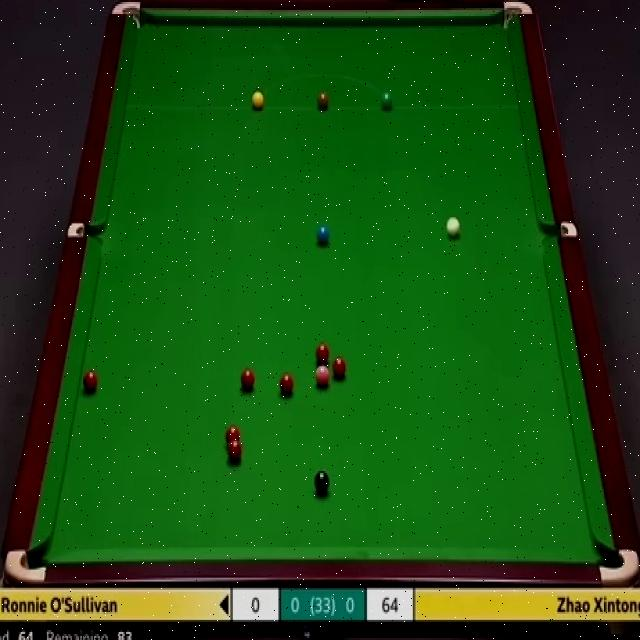black-ball: (314, 470, 329, 494)
blue-ball: (316, 226, 330, 244)
brown-ball: (317, 92, 328, 110)
green-ball: (380, 89, 394, 111)
pink-ball: (316, 366, 331, 387)
red-ball: (240, 369, 257, 390), (278, 374, 294, 396), (83, 369, 98, 392), (331, 357, 346, 378), (315, 343, 330, 363), (226, 425, 240, 444), (229, 440, 241, 460)
white-ball: (446, 215, 461, 238)
yellow-ball: (252, 91, 264, 111)
